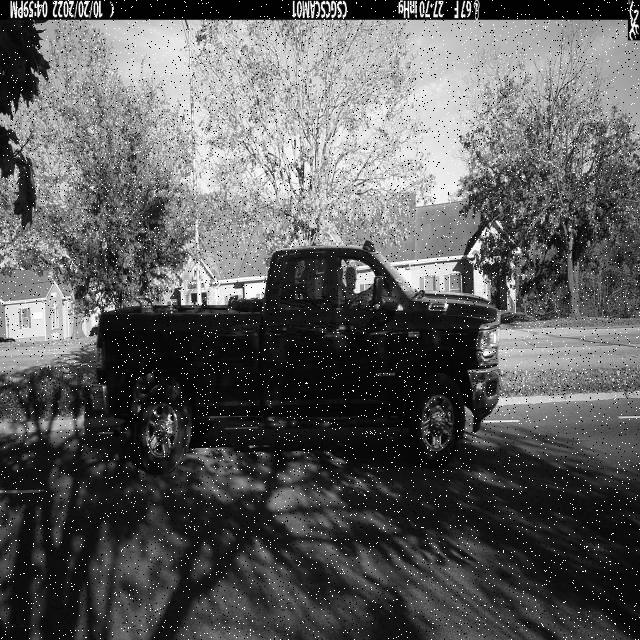Pickup: (89, 239, 502, 476)
